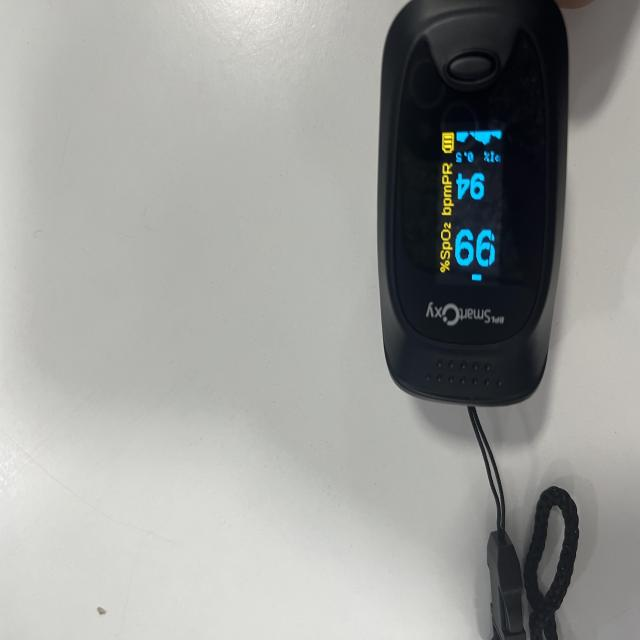spo2: (377, 0, 570, 409)
